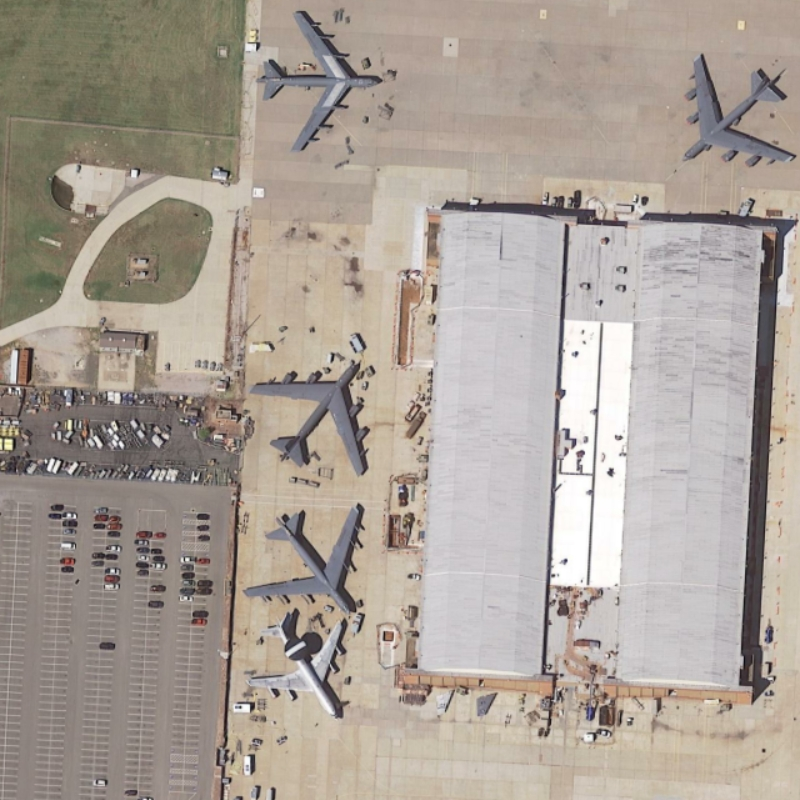A7: (243, 607, 348, 720)
A8: (255, 5, 386, 156), (247, 344, 381, 483), (238, 500, 370, 624), (677, 47, 797, 175)
